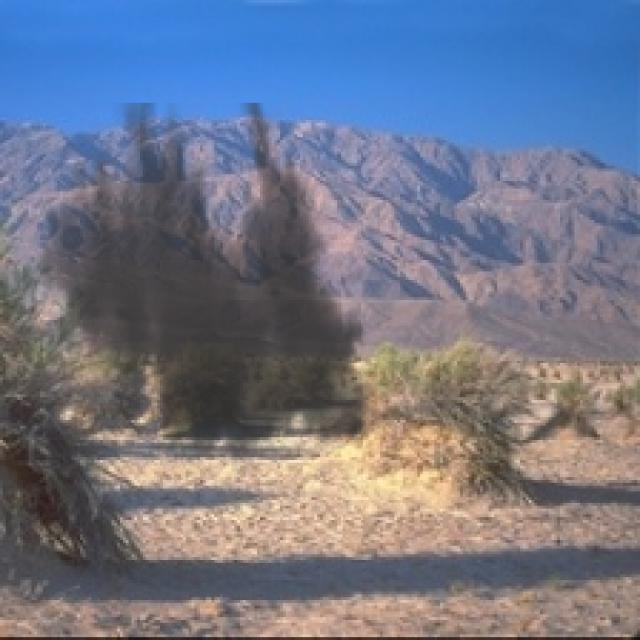smoke: (26, 103, 391, 477)
